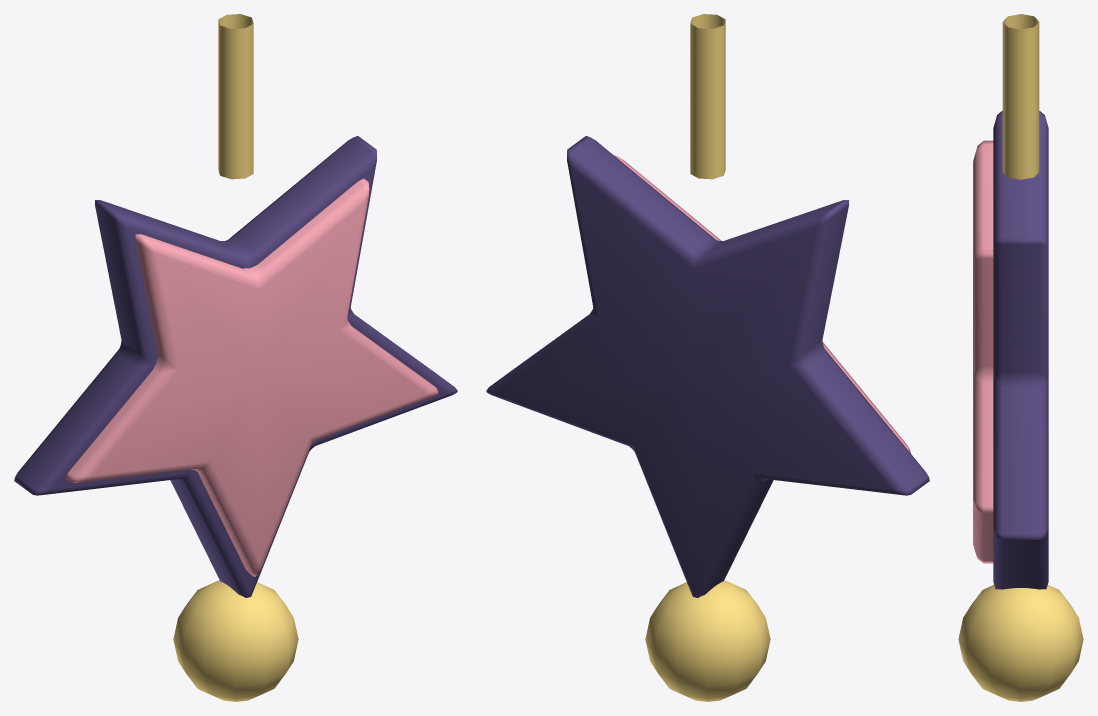
Rendered from star_bell_0.glb.
3 views of the same model, side by side, from view 1: azimuth 30°, elevation 25°; view 2: azimuth 150°, elevation 25°; view 3: azimuth 270°, elevation 25° (orthographic).
Parts seen in each view (by area): view 1: StarFace.001, StarInk.001, Clapper, Hanger; view 2: StarInk.001, Clapper, Hanger, StarFace.001; view 3: StarInk.001, Clapper, StarFace.001, Hanger.
Boxes of the visible parts, x1,y1,x2,y2 form: StarFace.001: (65, 178, 438, 576); StarInk.001: (14, 136, 457, 597); Clapper: (173, 580, 298, 701); Hanger: (218, 14, 253, 179); StarInk.001: (486, 136, 929, 597); Clapper: (645, 580, 770, 701); Hanger: (690, 14, 725, 179); StarFace.001: (614, 155, 910, 453); StarInk.001: (993, 111, 1048, 589); Clapper: (958, 585, 1083, 701); StarFace.001: (973, 140, 993, 563); Hanger: (1002, 14, 1039, 179).
Size of the model in its own units: 2.66 by 4.04 by 0.68.
